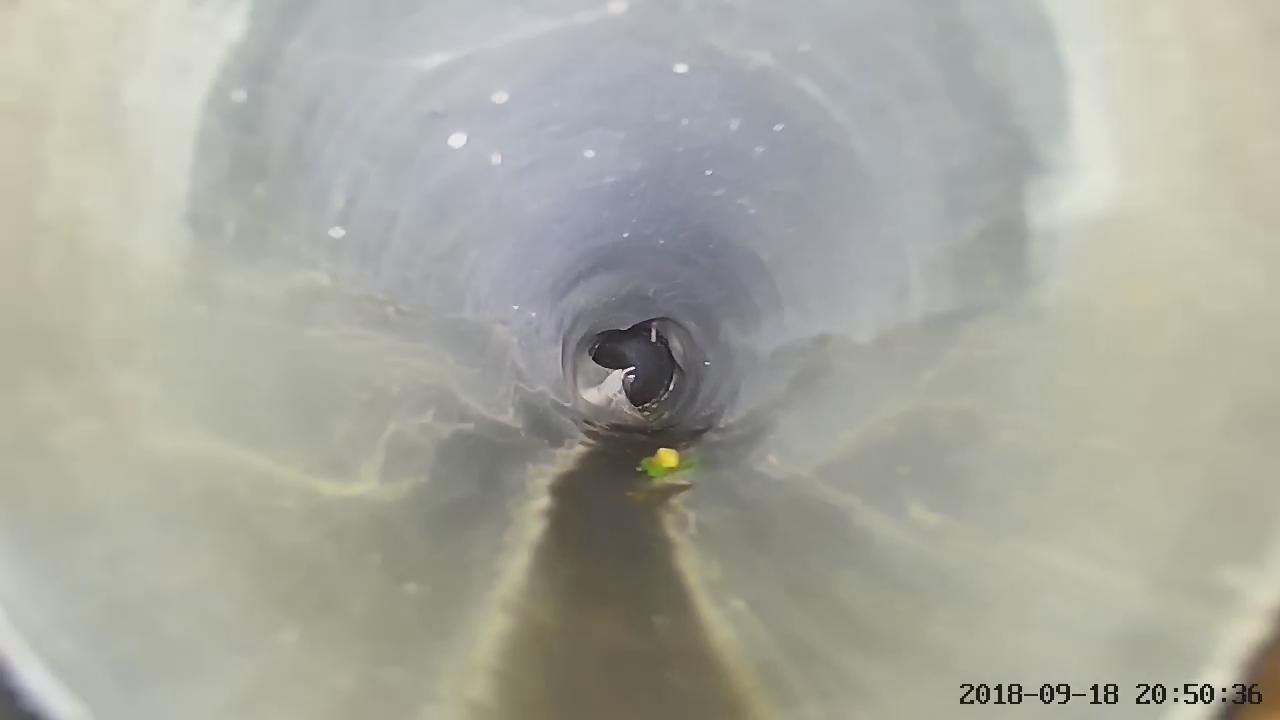BX: (554, 305, 721, 438)
